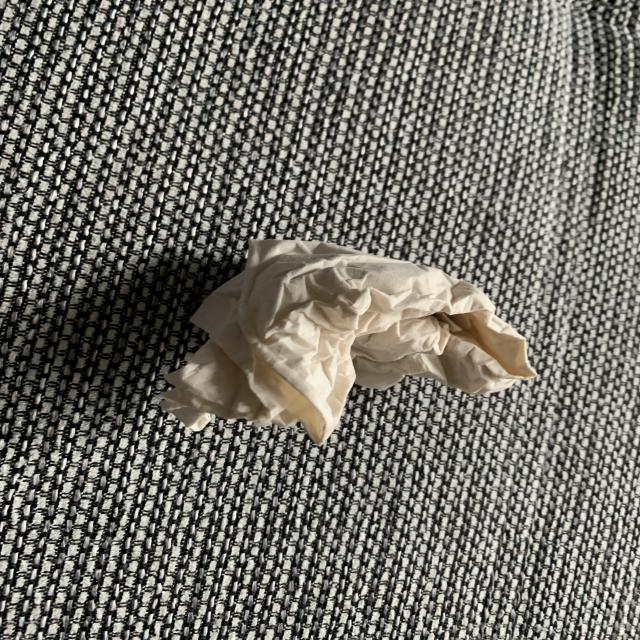kitchen paper: (144, 230, 542, 448)
